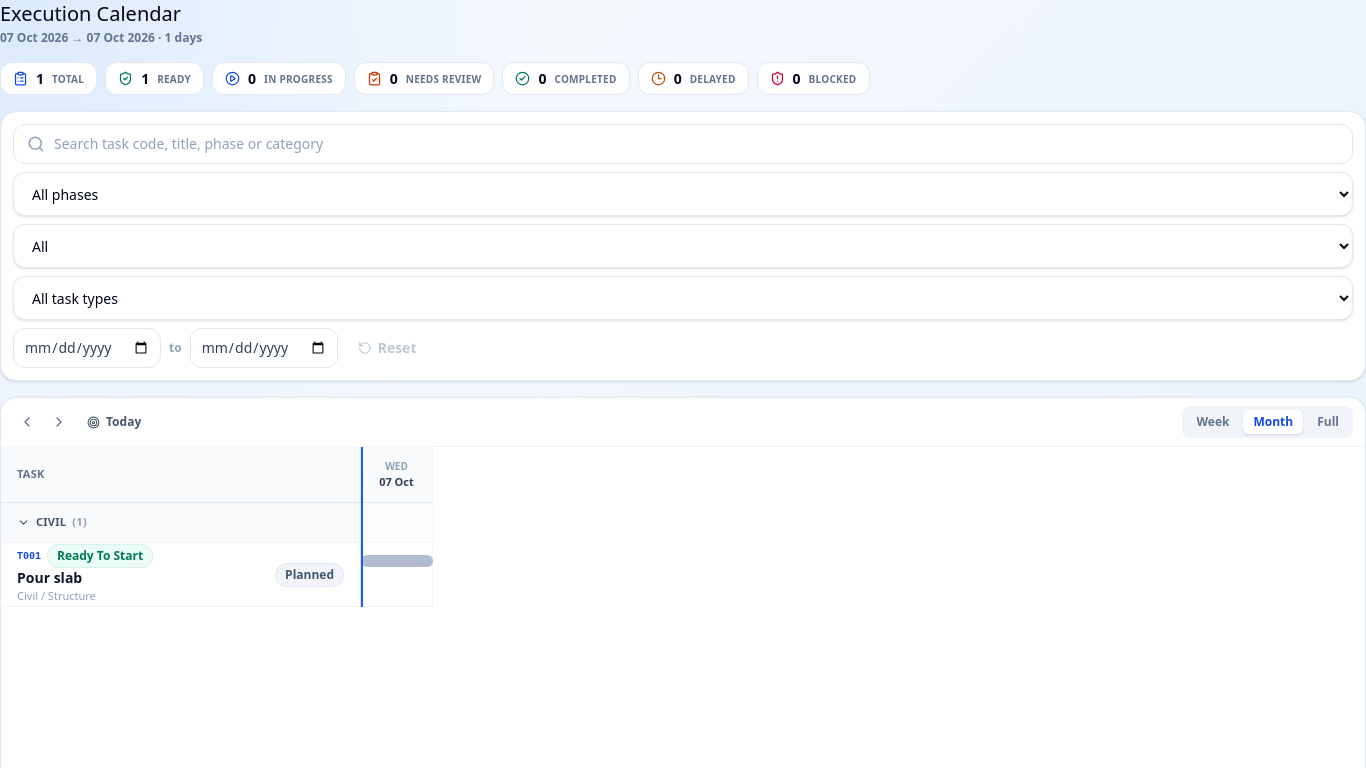
it: ExecutionCalendarView › opens the task detail drawer when a task is clicked, and closes it
Click the text "Pour slab" at (50, 578), box [17,568,82,587]
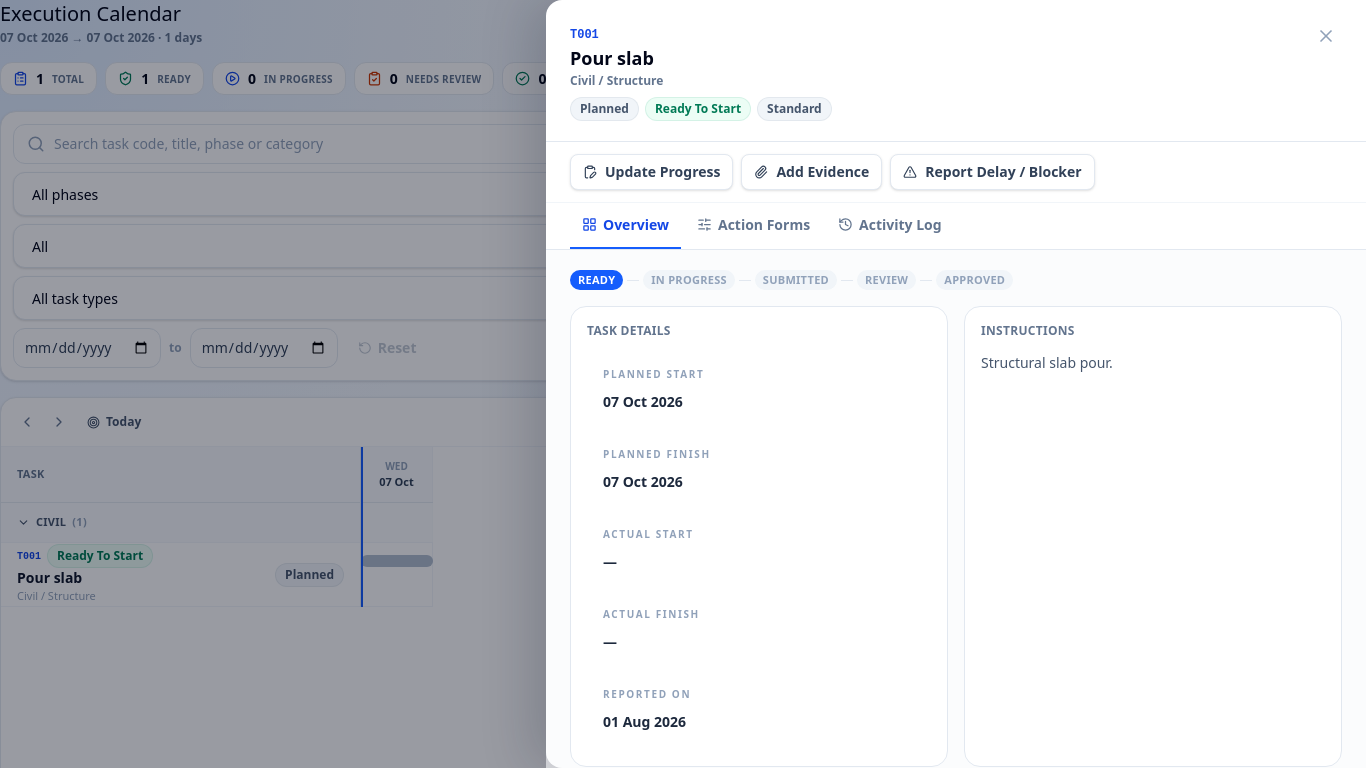
Expected: the text "Structural slab pour." is shown, [981,353,1113,372]
Click the button named "close task detail" at (1326, 36), box [1310,20,1342,52]
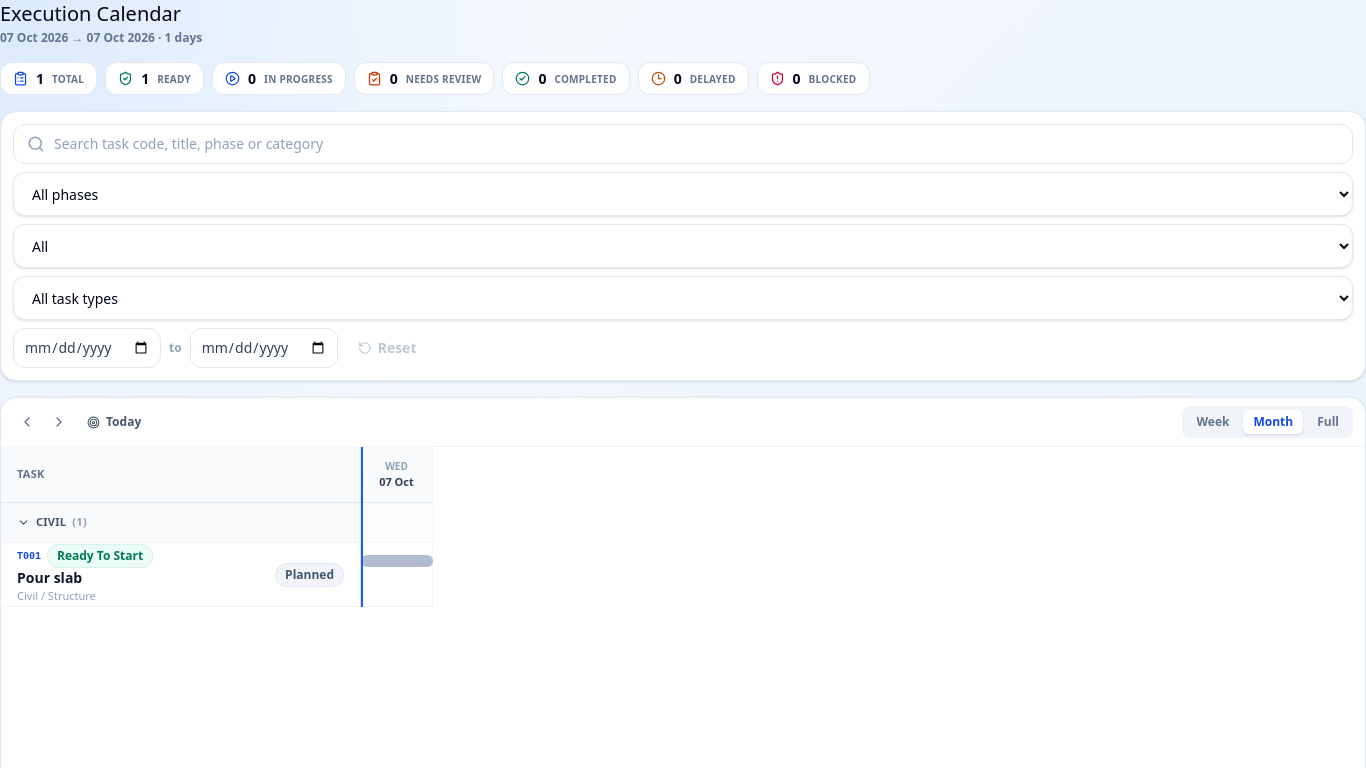
Expected: the text "Structural slab pour." is gone
